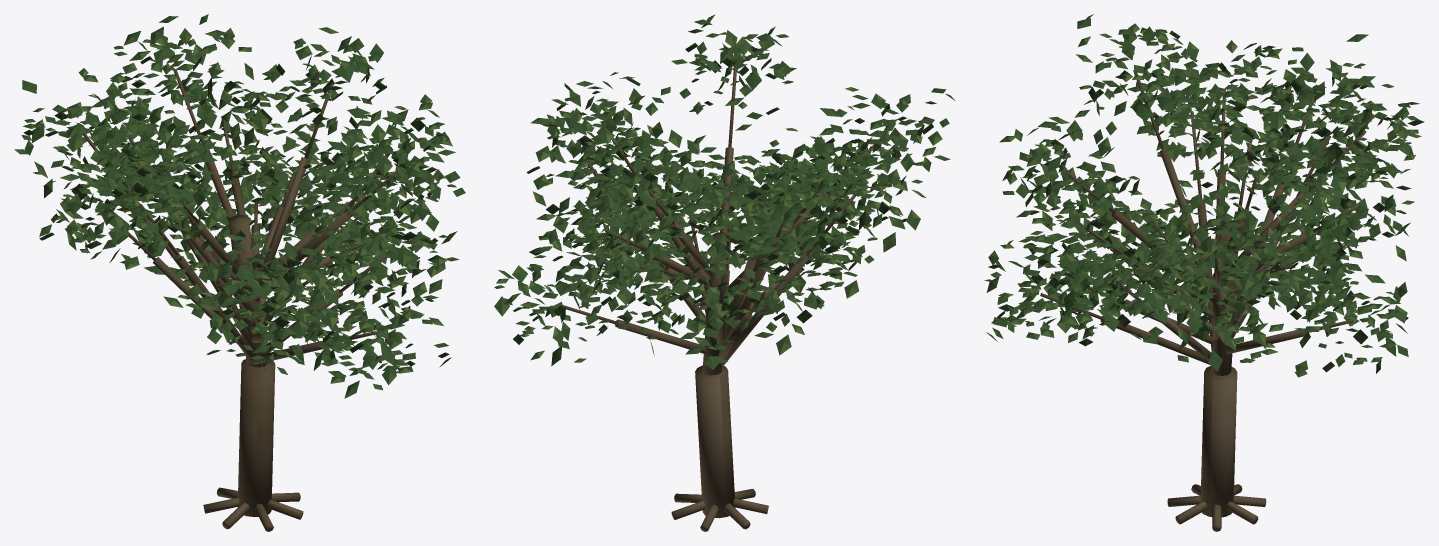
The model's file is CourtyardTree.fbx.
3 renders of one model, left to right at view 1: azimuth 30°, elevation 25°; view 2: azimuth 150°, elevation 25°; view 3: azimuth 270°, elevation 25°, orthographic. The views are drawn at different scales.
Parts seen in each view (by area): view 1: CourtyardTree; view 2: CourtyardTree; view 3: CourtyardTree.
Part boxes in pixels (x1,y1,x2,y2): CourtyardTree: (14, 14, 465, 531); CourtyardTree: (494, 14, 955, 531); CourtyardTree: (984, 14, 1424, 531).
Bounding box in the file's own units: 447 × 500 × 476.
1 material, 1 textured.
